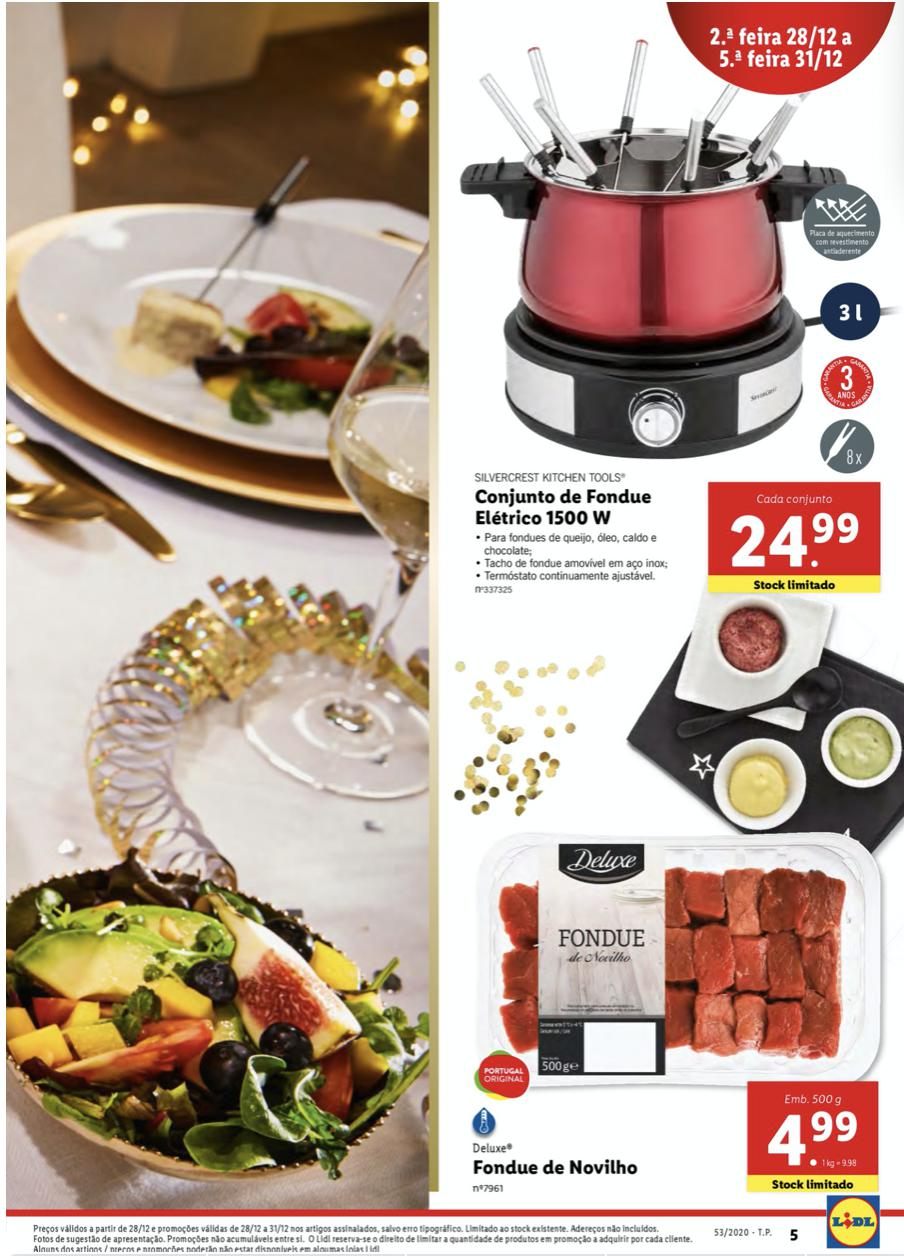name: (472, 485, 655, 530), (467, 1155, 644, 1180)
price: (725, 507, 866, 572), (764, 1104, 866, 1169)
product: (452, 24, 891, 596), (459, 827, 895, 1204)
